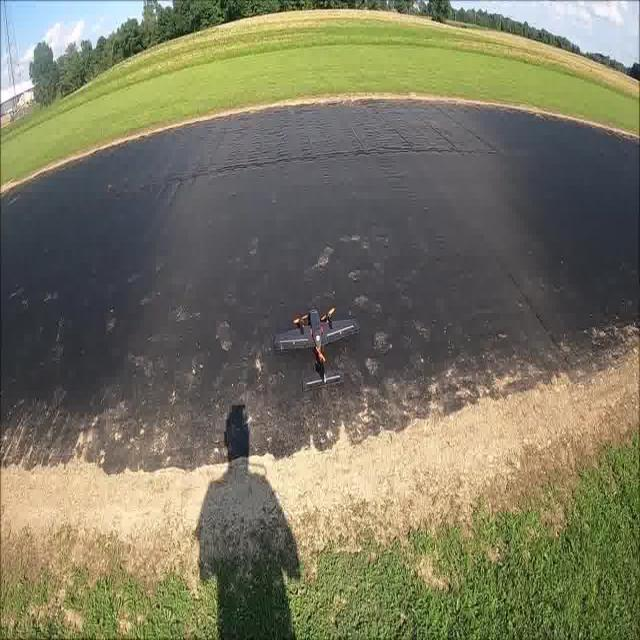iha: (302, 330, 328, 372)
